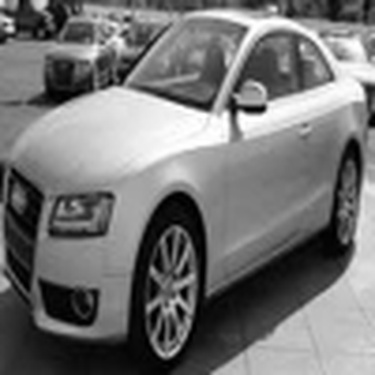car: (1, 6, 371, 372), (279, 32, 373, 129), (7, 35, 124, 98), (1, 33, 20, 46)
